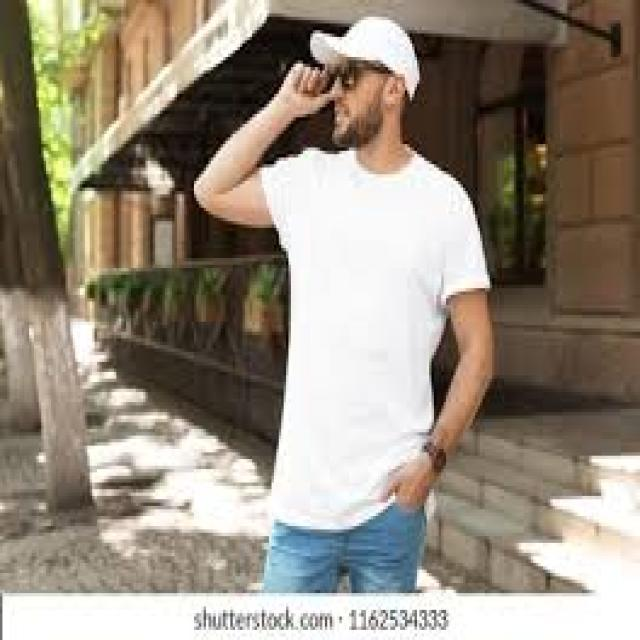cap: (281, 0, 441, 97)
